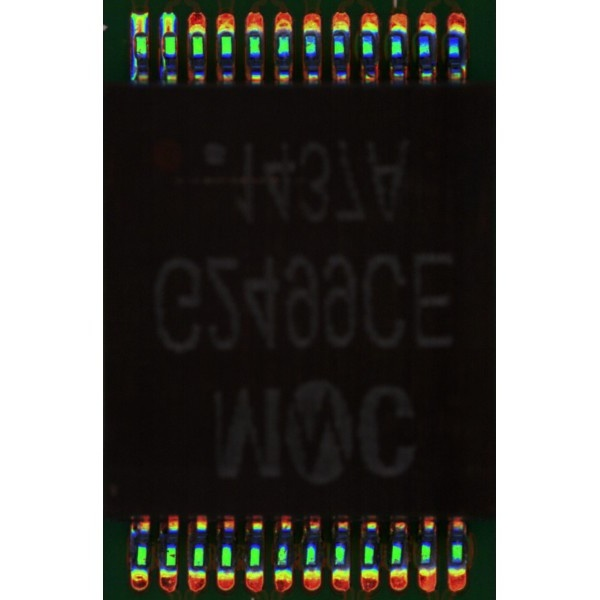Bad_qiaojiao: (131, 36, 137, 83), (160, 36, 164, 72)
